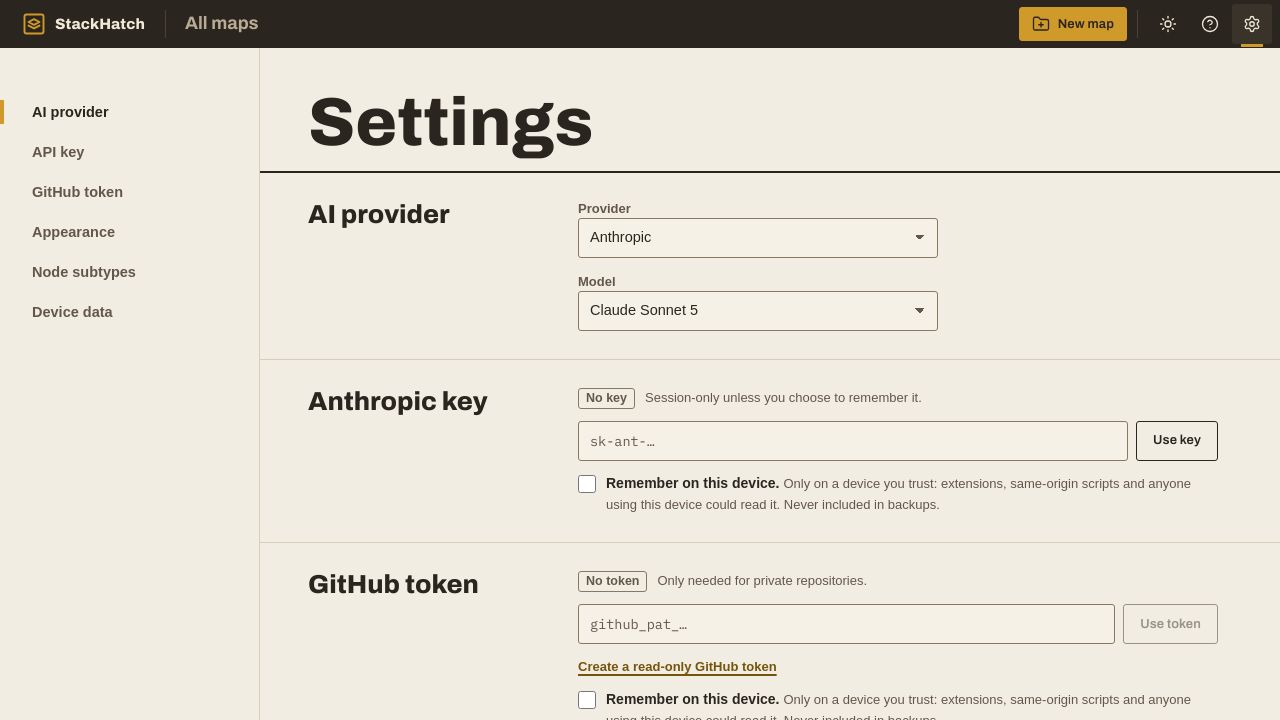
Scenario: DeviceSettingsPage › keeps the GitHub token apart from the AI key and accepts only fine-grained tokens
Expected: the text "No token" is shown, x1=578 y1=571 x2=648 y2=592
Type "ghp_classic" into the password field named "GitHub token" at (847, 624), box x1=578 y1=604 x2=1115 y2=644
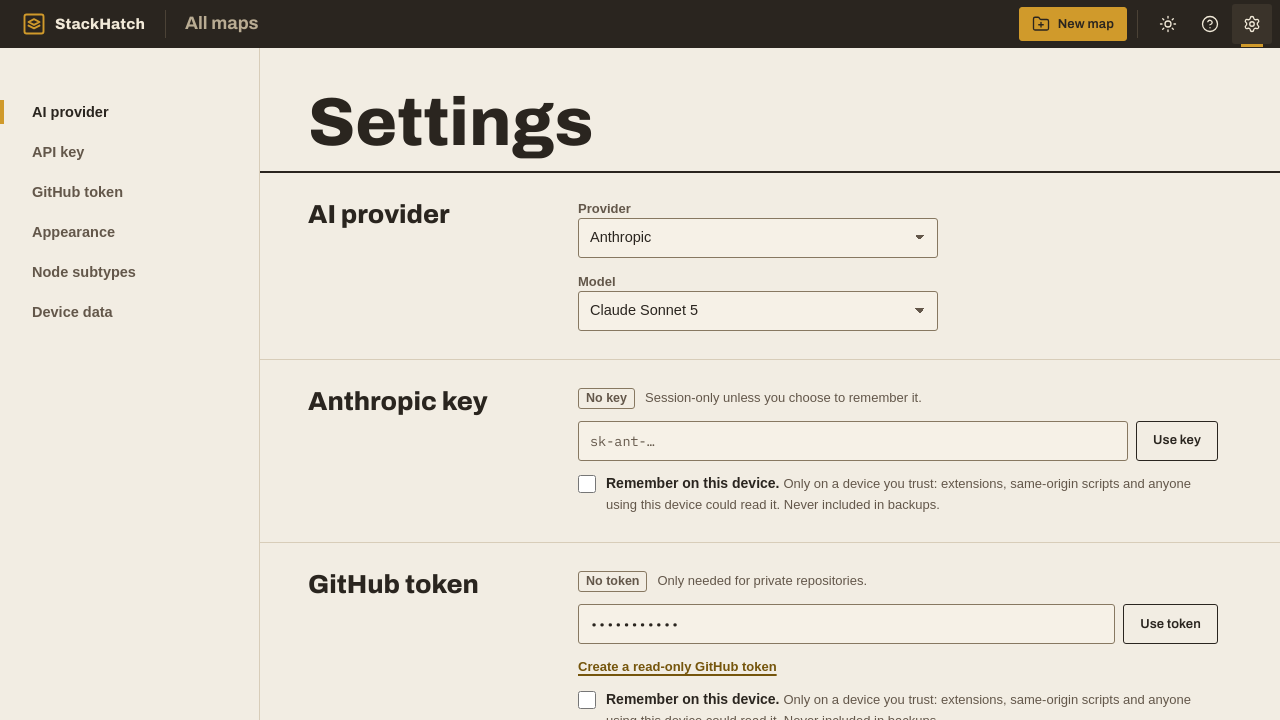
Click the button "Use token" at (1171, 624), box x1=1123 y1=604 x2=1218 y2=644
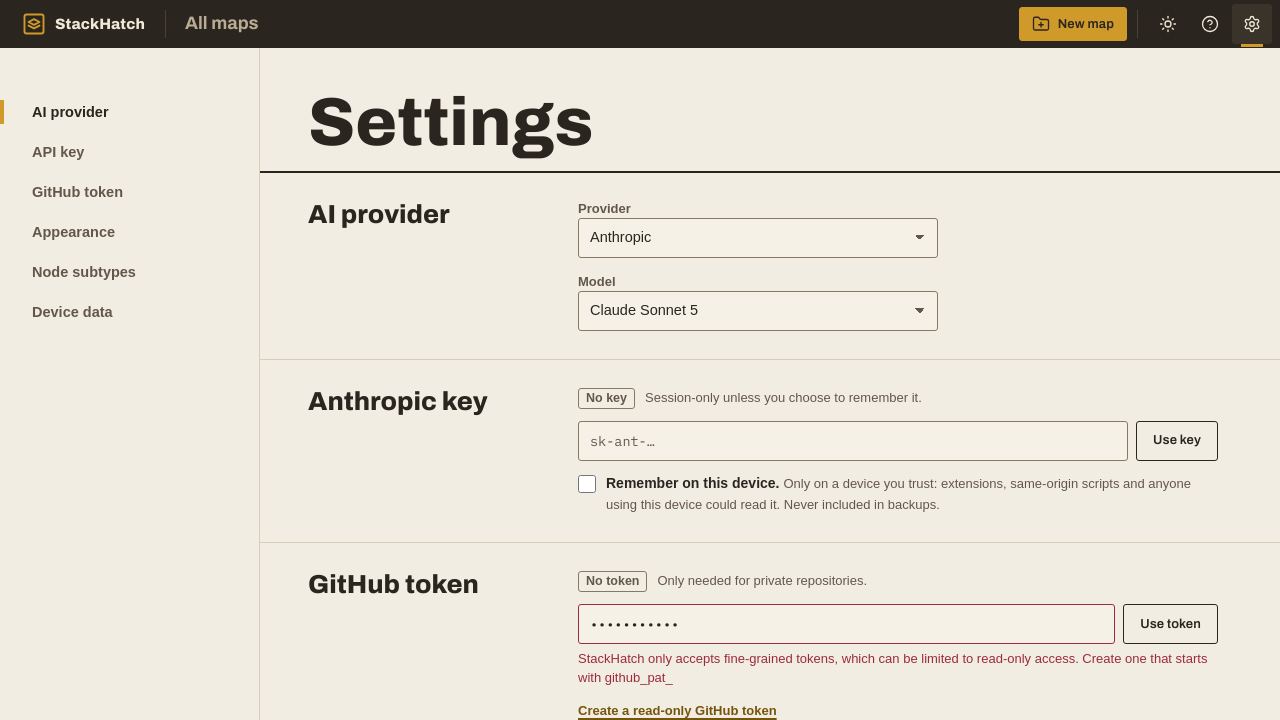
Result: the message shows "only accepts fine-grained tokens" at x1=578 y1=651 x2=1207 y2=685
Type "github_pat_remembered" into the password field named "GitHub token" at (847, 624), box x1=578 y1=604 x2=1115 y2=644
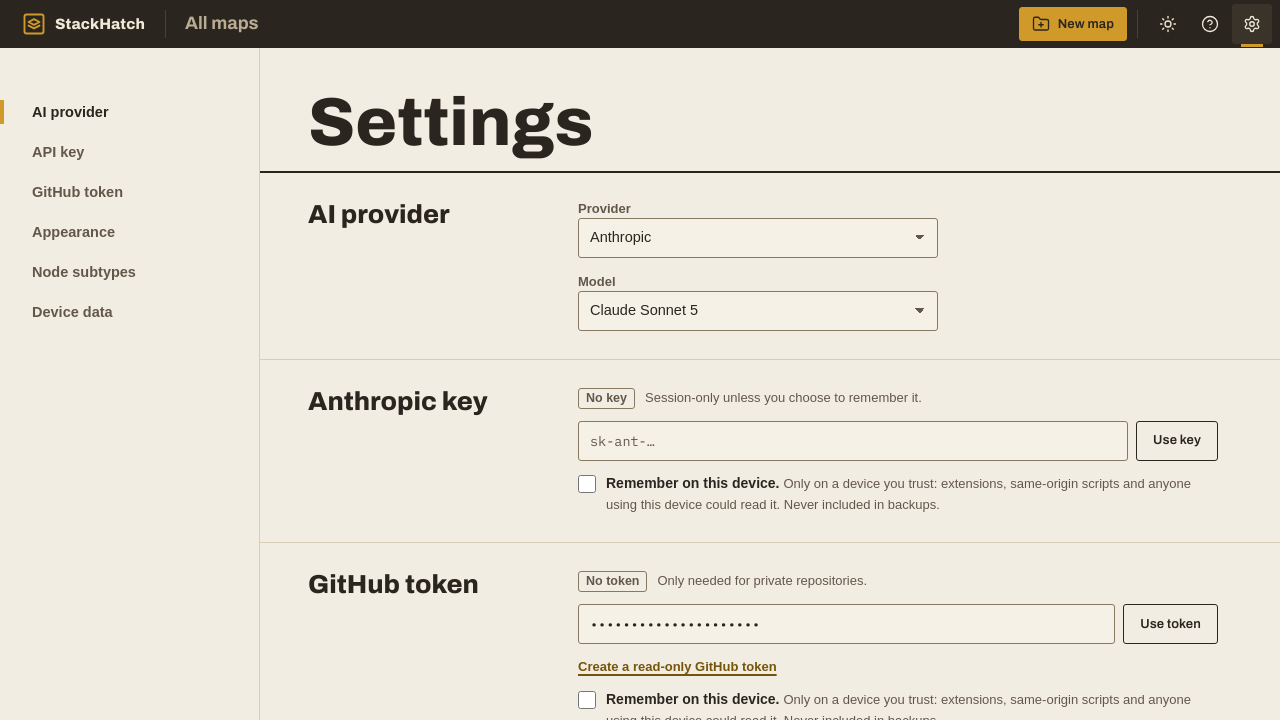
Click the checkbox below "Create a read-only GitHub token" at (587, 700), box x1=578 y1=692 x2=596 y2=710
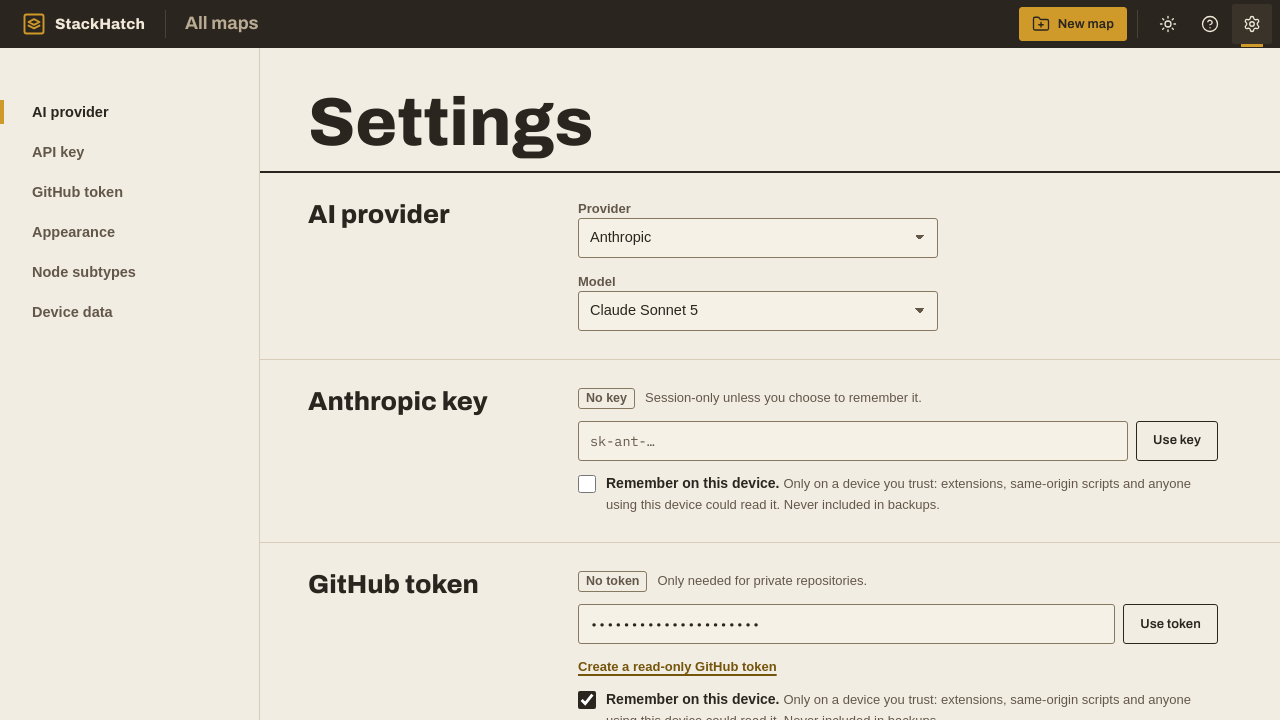
Click the button "Use token" at (1171, 624), box x1=1123 y1=604 x2=1218 y2=644
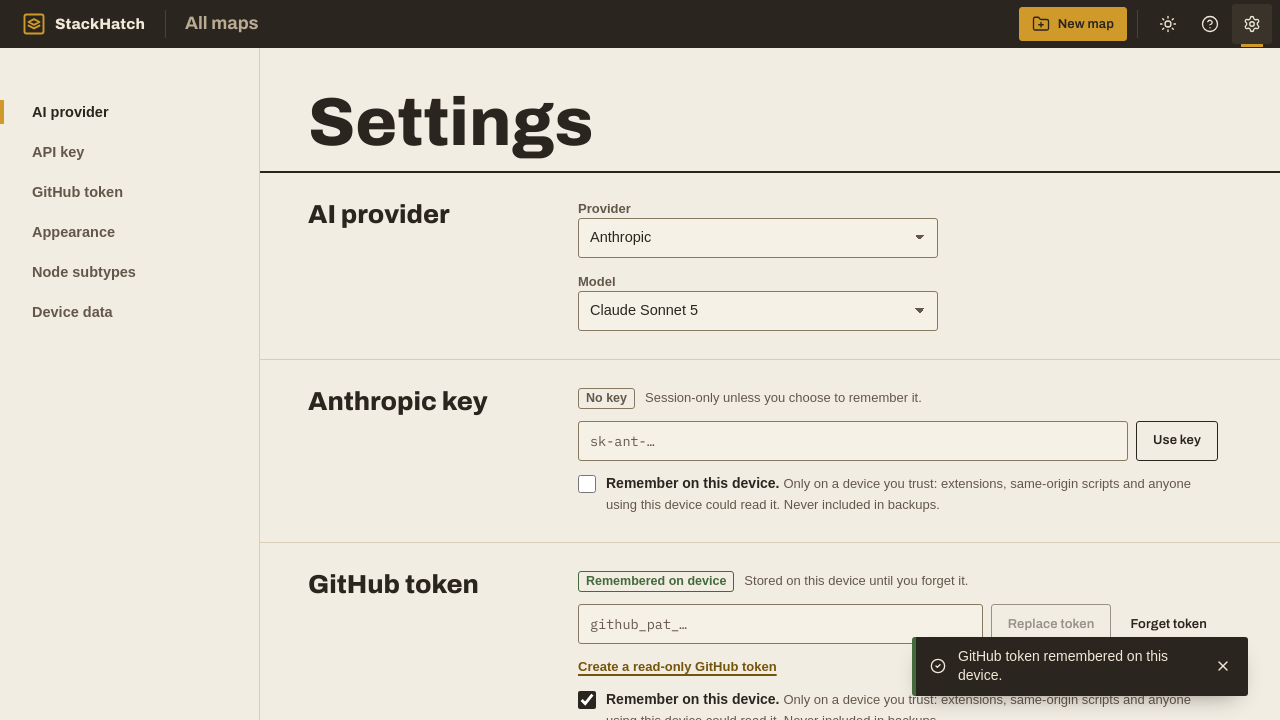
Expected: the text "No key" is shown, x1=578 y1=388 x2=635 y2=409
Result: the text "Remembered on device" is shown at x1=578 y1=571 x2=734 y2=592
Click the button "Forget token" at (1169, 624), box x1=1119 y1=604 x2=1218 y2=644
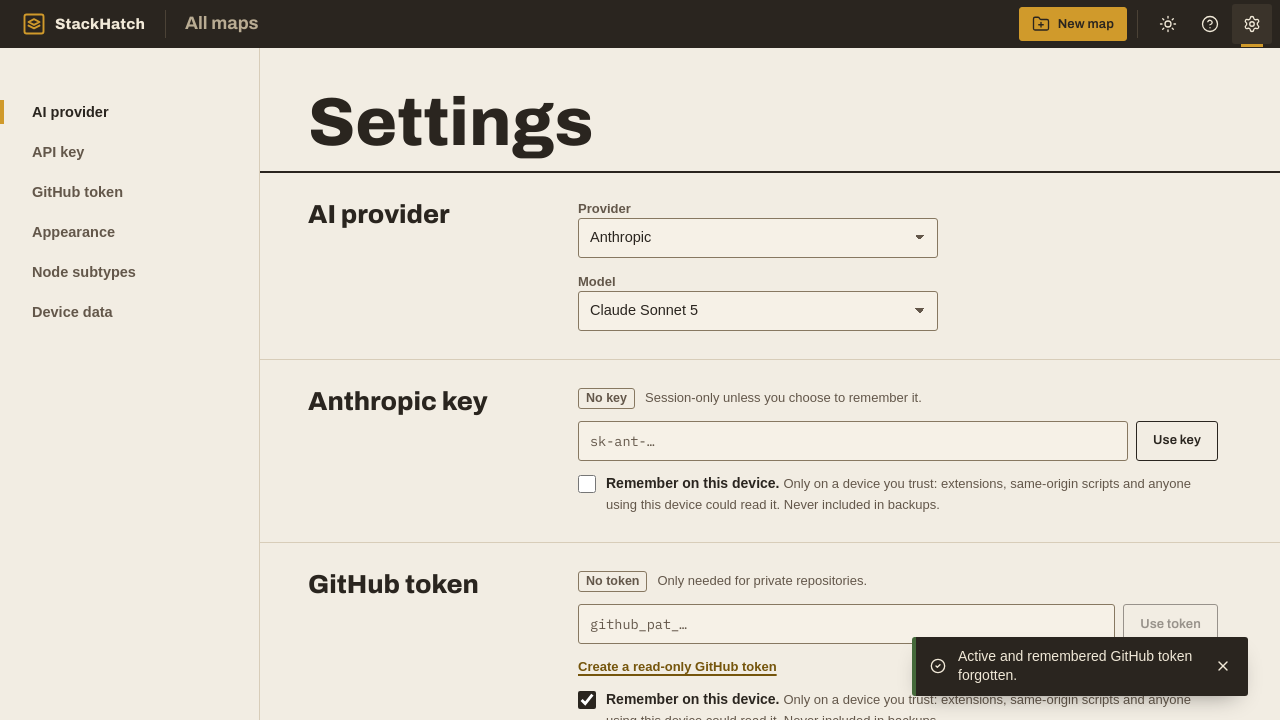
Result: the text "No token" is shown at x1=578 y1=571 x2=648 y2=592
